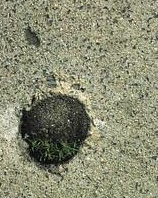Spalling: (19, 94, 90, 167)
